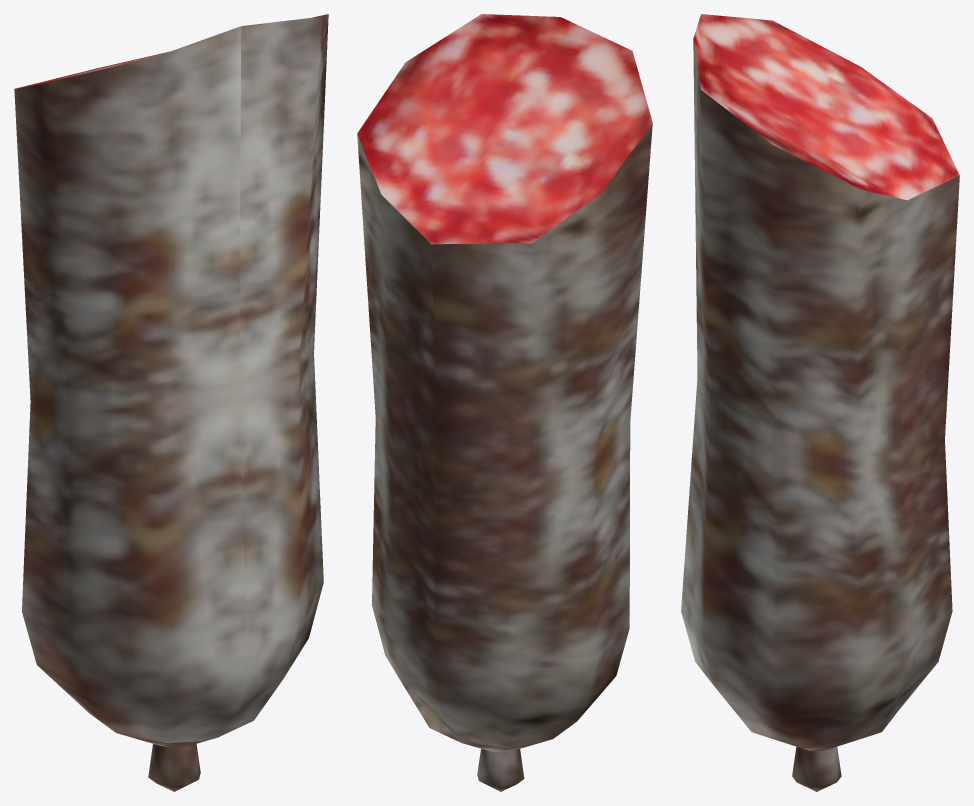
File: Saucisson.fbx
The picture shows the model from 3 angles, left to right: view 1: azimuth 30°, elevation 25°; view 2: azimuth 150°, elevation 25°; view 3: azimuth 270°, elevation 25°; orthographic projection. The views are drawn at different scales.
Parts seen in each view (by area): view 1: Saucisson; view 2: Saucisson; view 3: Saucisson.
Part boxes in pixels (<box>): Saucisson: <box>14,14,328,791</box>; Saucisson: <box>357,14,652,791</box>; Saucisson: <box>681,14,959,791</box>.
Bounding box in the file's own units: 5.11 × 4.74 × 14.13.
